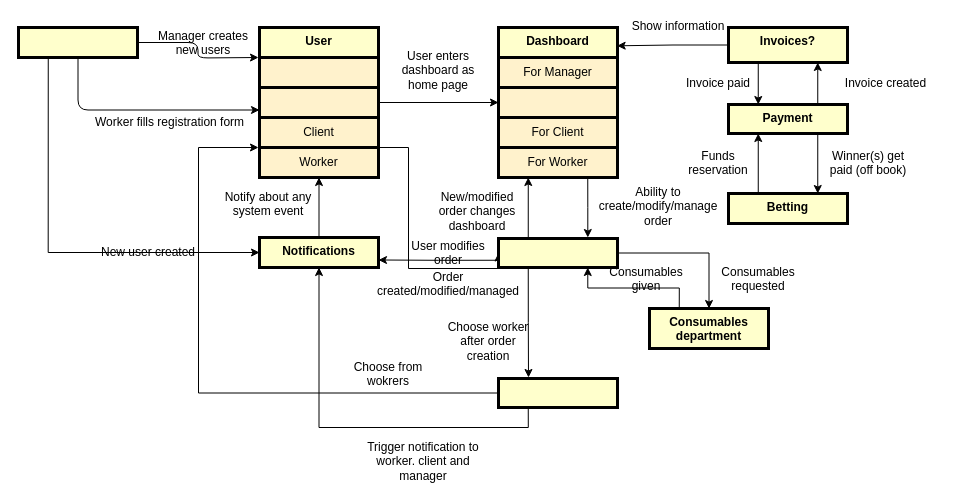
Image size: 971x500. Some labels were removed from this diagram. Here are the shapes that lost their labels. From the top down, the box of each, then its label:
(16, 26, 138, 58): Registration
(258, 56, 380, 88): Manager
(258, 86, 380, 118): Consumables dept. worker
(496, 86, 618, 118): For Consumables dept. worker
(496, 236, 618, 268): Order
(496, 376, 618, 408): Matching
